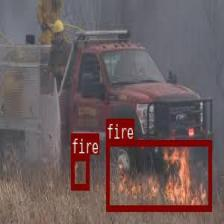fire: (105, 140, 211, 210), (70, 154, 89, 188)
